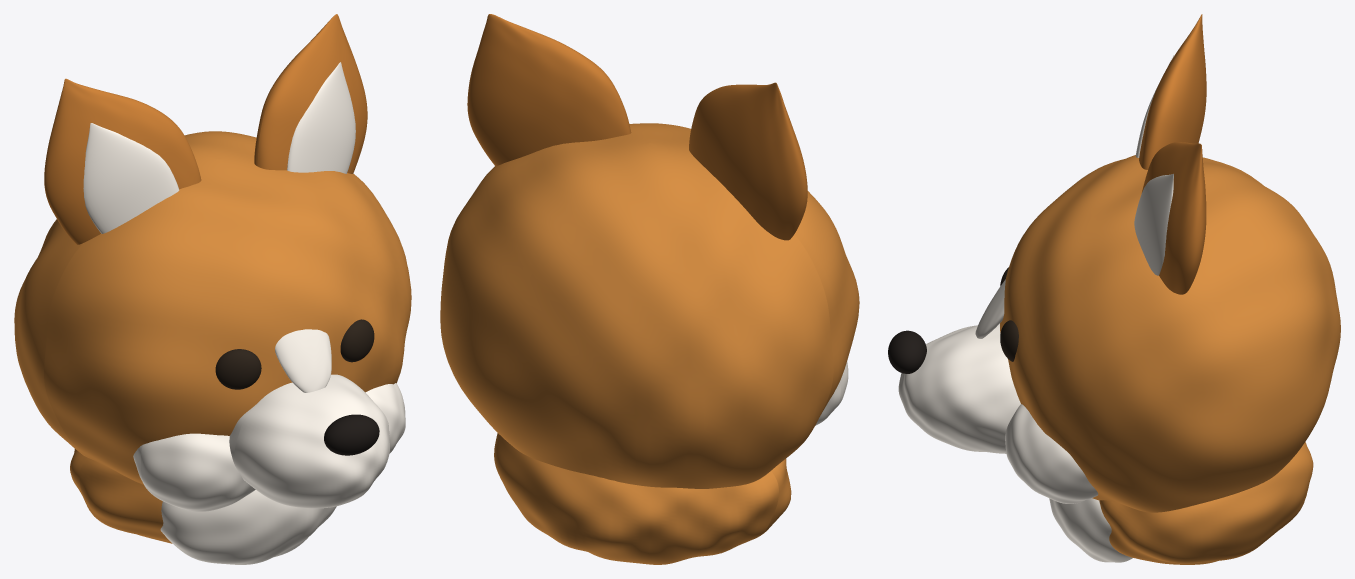
File: head-dog-corgi-full.glb
3 renders of one model, left to right at view 1: azimuth 30°, elevation 25°; view 2: azimuth 150°, elevation 25°; view 3: azimuth 270°, elevation 25°, orthographic. The views are drawn at different scales.
Visible parts, largest first — view 1: PM_FUR_MAIN_1, PM_FUR_SECONDARY_4, PM_EARS_9, PM_FUR_SECONDARY_14, PM_EARS_11, PM_FUR_SECONDARY_2, PM_FUR_SECONDARY_10, PM_FUR_SECONDARY_12, PM_FUR_MAIN_13, PM_FUR_SECONDARY_5, PM_NOSE_6, PM_EYES_7 (+2 smaller); view 2: PM_FUR_MAIN_1, PM_FUR_MAIN_13, PM_EARS_11, PM_EARS_9, PM_FUR_SECONDARY_2; view 3: PM_FUR_MAIN_1, PM_FUR_MAIN_13, PM_FUR_SECONDARY_4, PM_EARS_11, PM_EARS_9, PM_FUR_SECONDARY_3, PM_FUR_SECONDARY_14, PM_FUR_SECONDARY_12, PM_NOSE_6, PM_FUR_SECONDARY_5, PM_EYES_8.
Boxes of the visible parts, box(x1,y1,x2,y2) form: PM_FUR_MAIN_1: box(14, 131, 411, 484); PM_FUR_SECONDARY_4: box(229, 374, 389, 508); PM_EARS_9: box(44, 78, 201, 244); PM_FUR_SECONDARY_14: box(160, 490, 336, 564); PM_EARS_11: box(254, 14, 367, 173); PM_FUR_SECONDARY_2: box(133, 433, 255, 511); PM_FUR_SECONDARY_10: box(83, 123, 179, 233); PM_FUR_SECONDARY_12: box(287, 62, 355, 173); PM_FUR_MAIN_13: box(70, 449, 172, 543); PM_FUR_SECONDARY_5: box(275, 329, 331, 392); PM_NOSE_6: box(324, 414, 379, 455); PM_EYES_7: box(215, 349, 261, 389); PM_FUR_MAIN_1: box(440, 123, 859, 488); PM_FUR_MAIN_13: box(494, 433, 791, 564); PM_EARS_11: box(467, 14, 631, 166); PM_EARS_9: box(689, 82, 807, 240); PM_FUR_SECONDARY_2: box(815, 361, 848, 425); PM_FUR_MAIN_1: box(1000, 155, 1340, 512); PM_FUR_MAIN_13: box(1099, 442, 1313, 564); PM_FUR_SECONDARY_4: box(898, 323, 1020, 453); PM_EARS_11: box(1142, 142, 1206, 294); PM_EARS_9: box(1139, 14, 1206, 169); PM_FUR_SECONDARY_3: box(1005, 404, 1098, 503); PM_FUR_SECONDARY_14: box(1049, 498, 1132, 562); PM_FUR_SECONDARY_12: box(1134, 174, 1173, 275); PM_NOSE_6: box(888, 330, 926, 373); PM_FUR_SECONDARY_5: box(975, 279, 1005, 338); PM_EYES_8: box(1000, 320, 1018, 361).
Size of the model in its own units: 0.0664 by 0.0874 by 0.0763.
